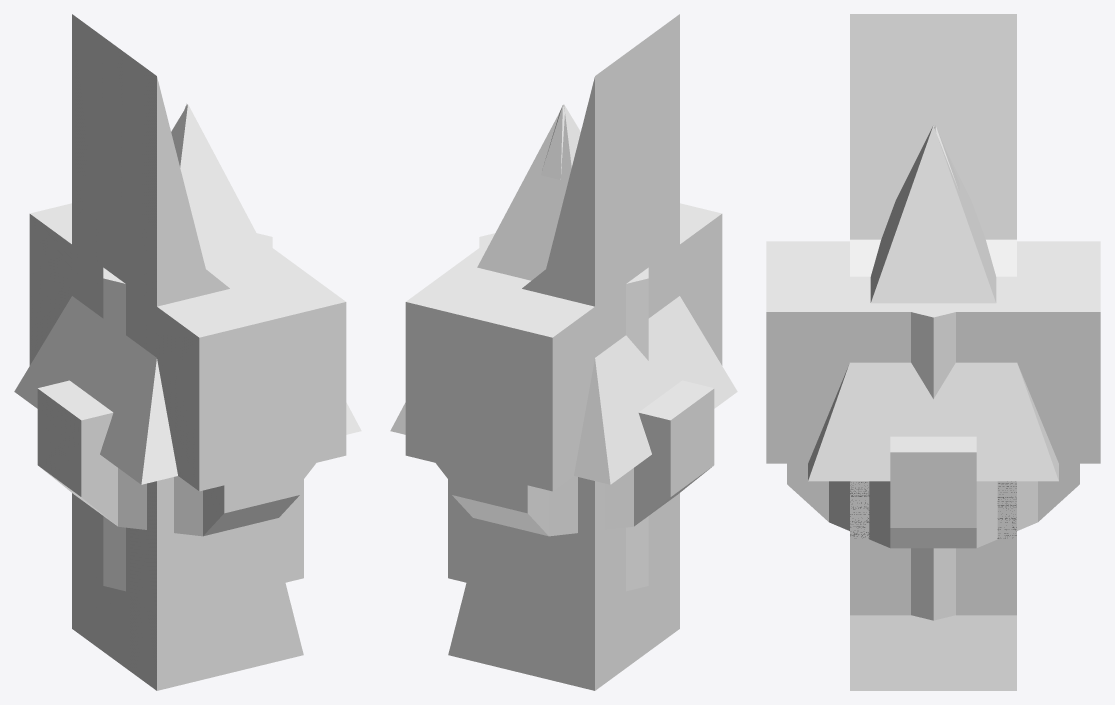
File: blocks, all of them.fbx
3 renders of one model, left to right at view 1: azimuth 30°, elevation 25°; view 2: azimuth 150°, elevation 25°; view 3: azimuth 270°, elevation 25°, orthographic.
Parts seen in each view (by area): view 1: super long corner, bridge style, wide pyramid tall, long cube, terrace, house top, long cyl, long corner; view 2: super long corner, bridge style, wide pyramid tall, long cube, terrace, house top, long cyl, WIDE CONE, long corner; view 3: super long corner, bridge style, wide pyramid tall, long cube, terrace, long cyl, house top, std cube, long thin plate.
Part boxes in pixels (left/top/right/bottom): super long corner: left=72, top=14, right=303, bottom=690; bridge style: left=29, top=203, right=346, bottom=491; wide pyramid tall: left=14, top=104, right=361, bottom=484; long cube: left=72, top=239, right=303, bottom=613; terrace: left=37, top=380, right=315, bottom=536; house top: left=72, top=169, right=229, bottom=356; long cyl: left=103, top=233, right=272, bottom=599; long corner: left=157, top=231, right=302, bottom=503; super long corner: left=448, top=14, right=679, bottom=690; bridge style: left=405, top=203, right=722, bottom=491; wide pyramid tall: left=390, top=104, right=737, bottom=484; long cube: left=448, top=240, right=679, bottom=613; terrace: left=436, top=380, right=714, bottom=536; house top: left=522, top=168, right=679, bottom=356; long cyl: left=479, top=233, right=648, bottom=602; WIDE CONE: left=541, top=105, right=564, bottom=179; long corner: left=450, top=230, right=594, bottom=499; super long corner: left=850, top=14, right=1016, bottom=690; bridge style: left=766, top=241, right=1100, bottom=463; wide pyramid tall: left=808, top=125, right=1058, bottom=481; long cube: left=850, top=297, right=1016, bottom=615; terrace: left=787, top=436, right=1079, bottom=548; long cyl: left=850, top=276, right=1016, bottom=620; house top: left=850, top=239, right=1016, bottom=276; std cube: left=850, top=481, right=1016, bottom=539; long thin plate: left=905, top=306, right=961, bottom=614.
Bounding box in the file's own units: 175 × 400 × 200.
2 materials, 2 textured.
